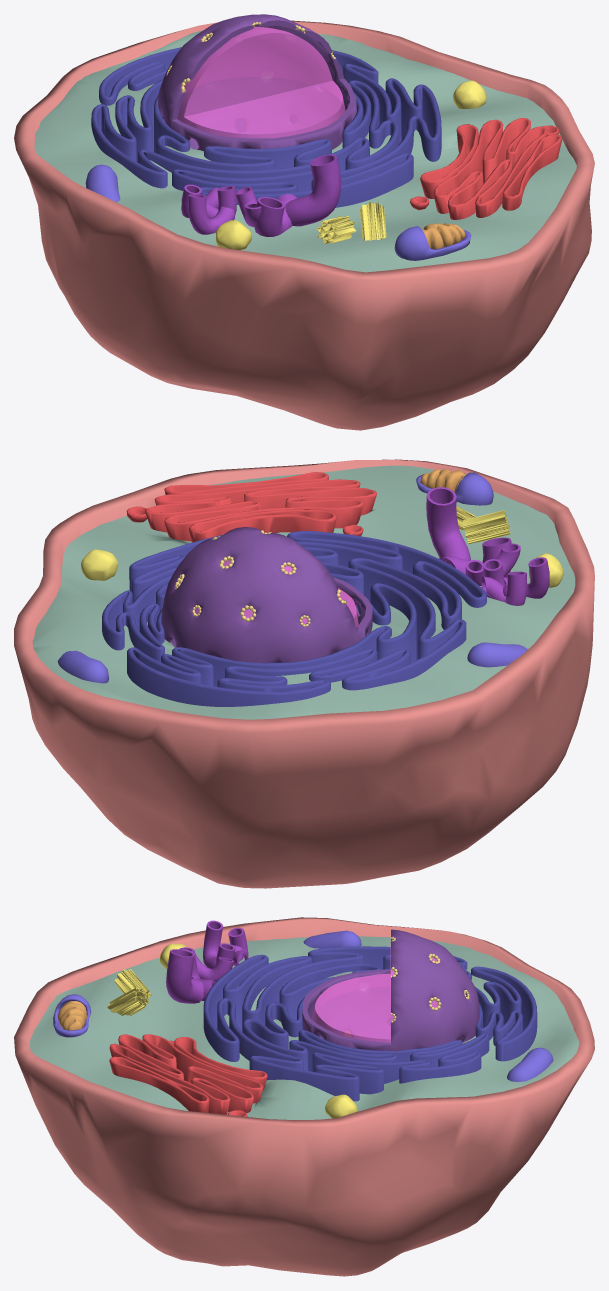
File: Te bao dong vat.fbx
3 renders of one model, top to bottom at view 1: azimuth 30°, elevation 25°; view 2: azimuth 150°, elevation 25°; view 3: azimuth 270°, elevation 25°, orthographic. The views are drawn at different scales.
Visible parts, largest first — view 1: DV_Mang Te bao, DV_Te bao chat, DV_Luoi noi chat hat, DV_Nhan, DV_Nhan con, DV_Bo may gogil, DV_Luoi noi chat tron, Core DONG VAT, DV_Luoi noi chat tron.002, DV_Trung the_DV, DV_Luoi noi chat tron.001, DV_Lysosone_DV.001 (+2 smaller); view 2: DV_Mang Te bao, DV_Te bao chat, DV_Luoi noi chat hat, DV_Nhan, DV_Bo may gogil, DV_Luoi noi chat tron, Core DONG VAT, DV_Luoi noi chat tron.002, DV_Luoi noi chat tron.001, DV_Trung the_DV, DV_Lysosone_DV.001, DV_lysosome.001 (+1 smaller); view 3: DV_Mang Te bao, DV_Luoi noi chat hat, DV_Te bao chat, DV_Nhan, DV_Bo may gogil, DV_Nhan con, Core DONG VAT, DV_Luoi noi chat tron, DV_Luoi noi chat tron.002, DV_Trung the_DV, DV_Lysosone_DV.001, DV_Luoi noi chat tron.001 (+1 smaller).
Part boxes in pixels (x1=…): DV_Mang Te bao: x1=14, y1=20, x2=594, y2=430; DV_Te bao chat: x1=34, y1=30, x2=576, y2=272; DV_Luoi noi chat hat: x1=91, y1=47, x2=441, y2=207; DV_Nhan: x1=158, y1=14, x2=356, y2=151; DV_Nhan con: x1=177, y1=26, x2=345, y2=138; DV_Bo may gogil: x1=410, y1=118, x2=562, y2=244; DV_Luoi noi chat tron: x1=254, y1=154, x2=341, y2=236; Core DONG VAT: x1=394, y1=223, x2=471, y2=260; DV_Luoi noi chat tron.002: x1=188, y1=187, x2=261, y2=234; DV_Trung the_DV: x1=316, y1=202, x2=386, y2=243; DV_Luoi noi chat tron.001: x1=181, y1=184, x2=236, y2=218; DV_Lysosone_DV.001: x1=85, y1=164, x2=120, y2=202; DV_Mang Te bao: x1=14, y1=459, x2=594, y2=888; DV_Te bao chat: x1=32, y1=465, x2=575, y2=719; DV_Luoi noi chat hat: x1=102, y1=531, x2=486, y2=706; DV_Nhan: x1=161, y1=527, x2=372, y2=662; DV_Bo may gogil: x1=126, y1=472, x2=377, y2=542; DV_Luoi noi chat tron: x1=426, y1=487, x2=511, y2=577; Core DONG VAT: x1=57, y1=469, x2=493, y2=683; DV_Luoi noi chat tron.002: x1=465, y1=543, x2=549, y2=598; DV_Luoi noi chat tron.001: x1=481, y1=559, x2=526, y2=605; DV_Trung the_DV: x1=456, y1=506, x2=510, y2=543; DV_Lysosone_DV.001: x1=467, y1=642, x2=527, y2=667; DV_lysosome.001: x1=81, y1=549, x2=118, y2=580; DV_Mang Te bao: x1=14, y1=917, x2=594, y2=1276; DV_Luoi noi chat hat: x1=203, y1=946, x2=537, y2=1101; DV_Te bao chat: x1=30, y1=936, x2=579, y2=1119; DV_Nhan: x1=302, y1=929, x2=479, y2=1051; DV_Bo may gogil: x1=109, y1=1034, x2=267, y2=1116; DV_Nhan con: x1=312, y1=942, x2=438, y2=1042; Core DONG VAT: x1=53, y1=994, x2=553, y2=1081; DV_Luoi noi chat tron: x1=166, y1=949, x2=214, y2=1003; DV_Luoi noi chat tron.002: x1=179, y1=920, x2=233, y2=982; DV_Trung the_DV: x1=107, y1=969, x2=151, y2=1015; DV_Lysosone_DV.001: x1=303, y1=930, x2=361, y2=948; DV_Luoi noi chat tron.001: x1=216, y1=927, x2=248, y2=965.
Bounding box in the file's own units: 152 × 102 × 180.
